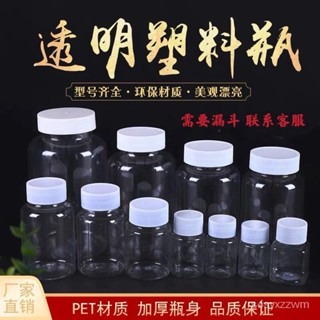medicinejar: (35, 105, 105, 249), (181, 138, 243, 262), (249, 142, 306, 273), (117, 124, 170, 262), (24, 177, 76, 284), (76, 182, 125, 283), (128, 196, 173, 284), (272, 215, 311, 293), (239, 219, 273, 288), (175, 210, 207, 278), (205, 211, 236, 279)
